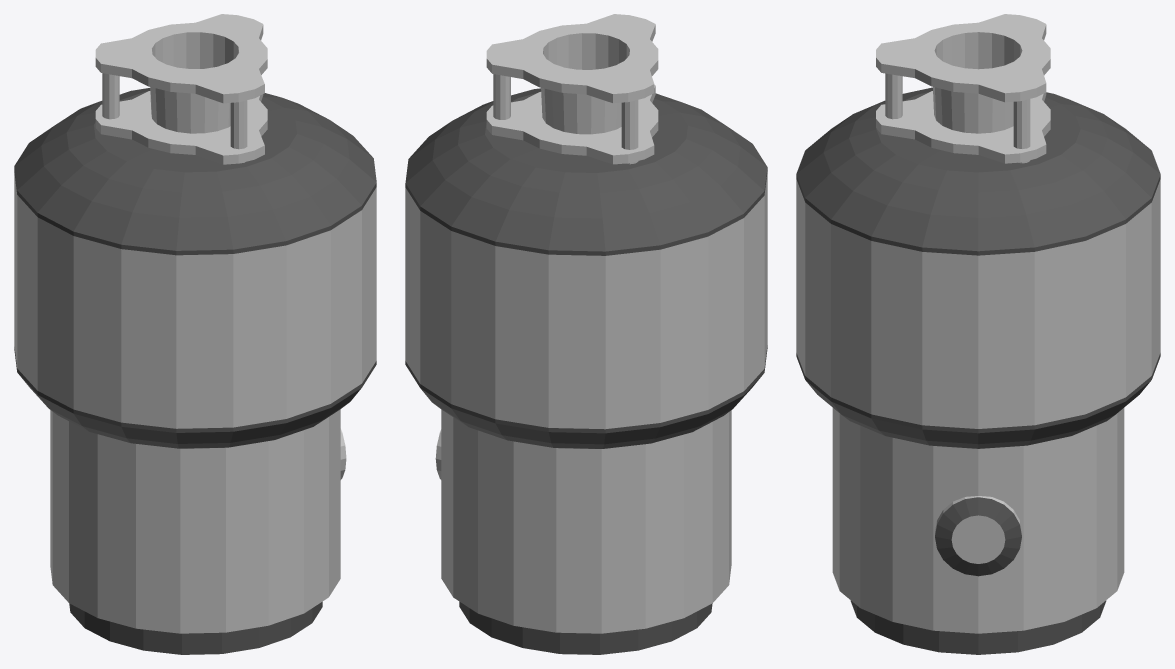
File: 1294_Garbage Disposal Unit.obj
3 views of the same model, side by side, from view 1: azimuth 30°, elevation 25°; view 2: azimuth 150°, elevation 25°; view 3: azimuth 270°, elevation 25° (orthographic).
Visible parts, largest first — view 1: Garbage_Disposal_Unit; view 2: Garbage_Disposal_Unit; view 3: Garbage_Disposal_Unit.
Boxes of the visible parts, x1=… form: Garbage_Disposal_Unit: x1=14, y1=14, x2=376, y2=654; Garbage_Disposal_Unit: x1=405, y1=14, x2=767, y2=654; Garbage_Disposal_Unit: x1=796, y1=14, x2=1160, y2=654.
Size of the model in its own units: 105 by 174 by 105.
1 material, 1 textured.
